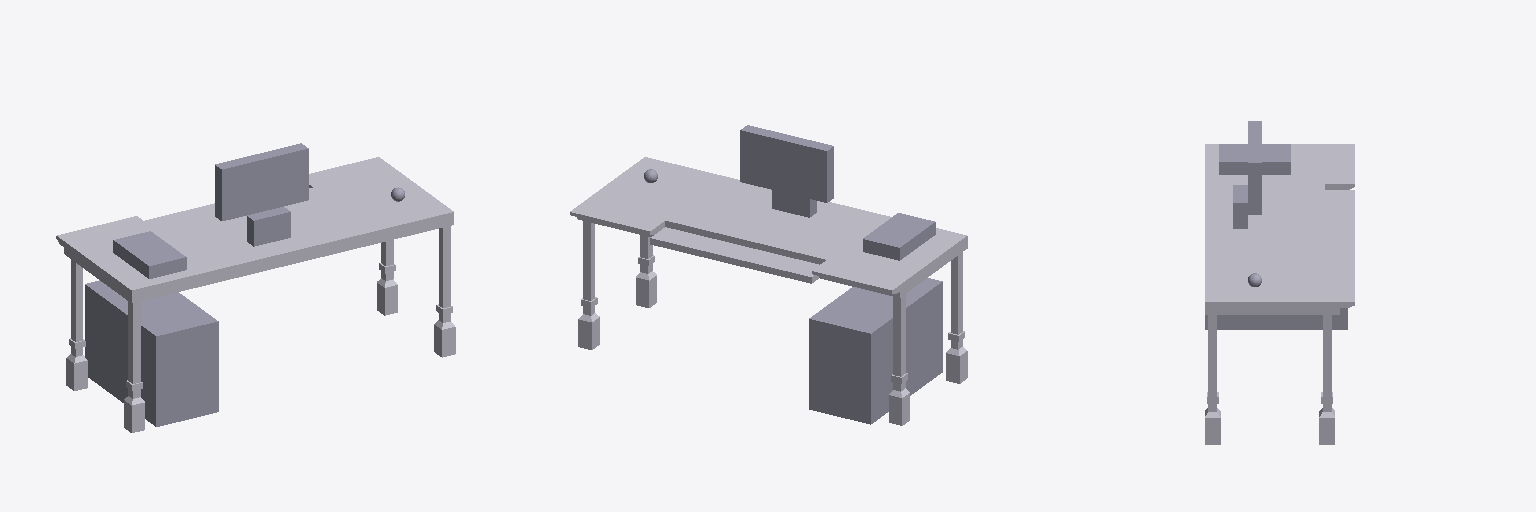
The model's file is bossDesk.obj.
3 views of the same model, side by side, from view 1: azimuth 30°, elevation 25°; view 2: azimuth 150°, elevation 25°; view 3: azimuth 270°, elevation 25° (orthographic).
Bounding box in the file's own units: 2.61 × 1.7 × 1.05.